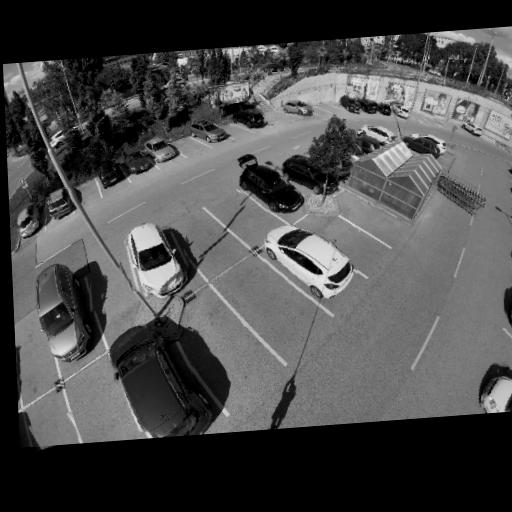busy: (109, 323, 198, 438), (263, 223, 359, 301), (21, 258, 93, 362), (116, 218, 194, 300), (239, 163, 302, 217), (473, 361, 512, 417), (285, 153, 332, 190), (13, 202, 44, 238), (189, 116, 227, 145), (44, 184, 75, 219), (117, 144, 151, 175), (403, 132, 442, 157), (147, 136, 180, 163), (95, 159, 124, 189), (362, 121, 398, 145), (237, 106, 268, 132), (283, 95, 314, 120), (501, 284, 512, 352), (338, 91, 364, 116), (355, 94, 381, 116), (373, 96, 393, 118), (460, 119, 483, 138), (391, 102, 410, 121)
free: (191, 316, 246, 360), (15, 329, 57, 383), (86, 272, 133, 318), (78, 391, 125, 435), (241, 280, 288, 321), (30, 414, 78, 450), (183, 226, 229, 262), (329, 225, 361, 254), (233, 204, 262, 231), (349, 201, 377, 224), (498, 341, 512, 381), (74, 183, 98, 206), (409, 110, 435, 128), (266, 111, 286, 127), (180, 141, 198, 154), (225, 124, 240, 137), (325, 104, 340, 116)
